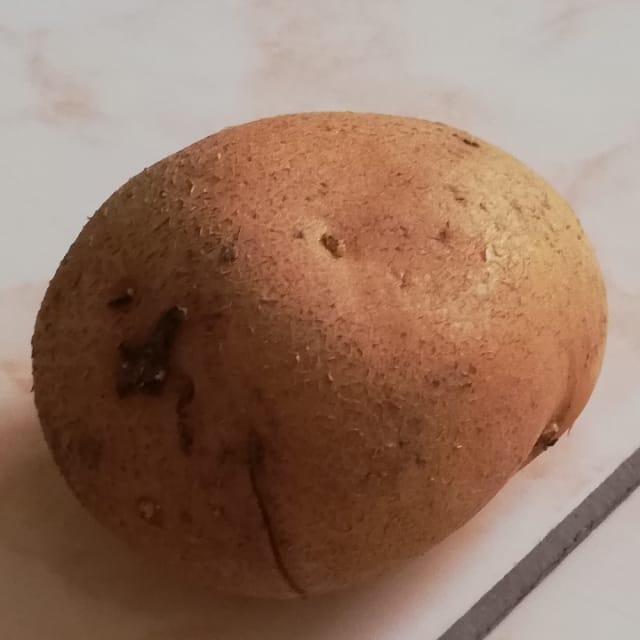potato: (19, 103, 632, 623)
